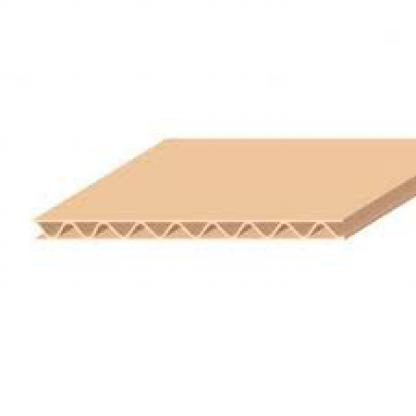CARDBOARD: (33, 137, 414, 238)
